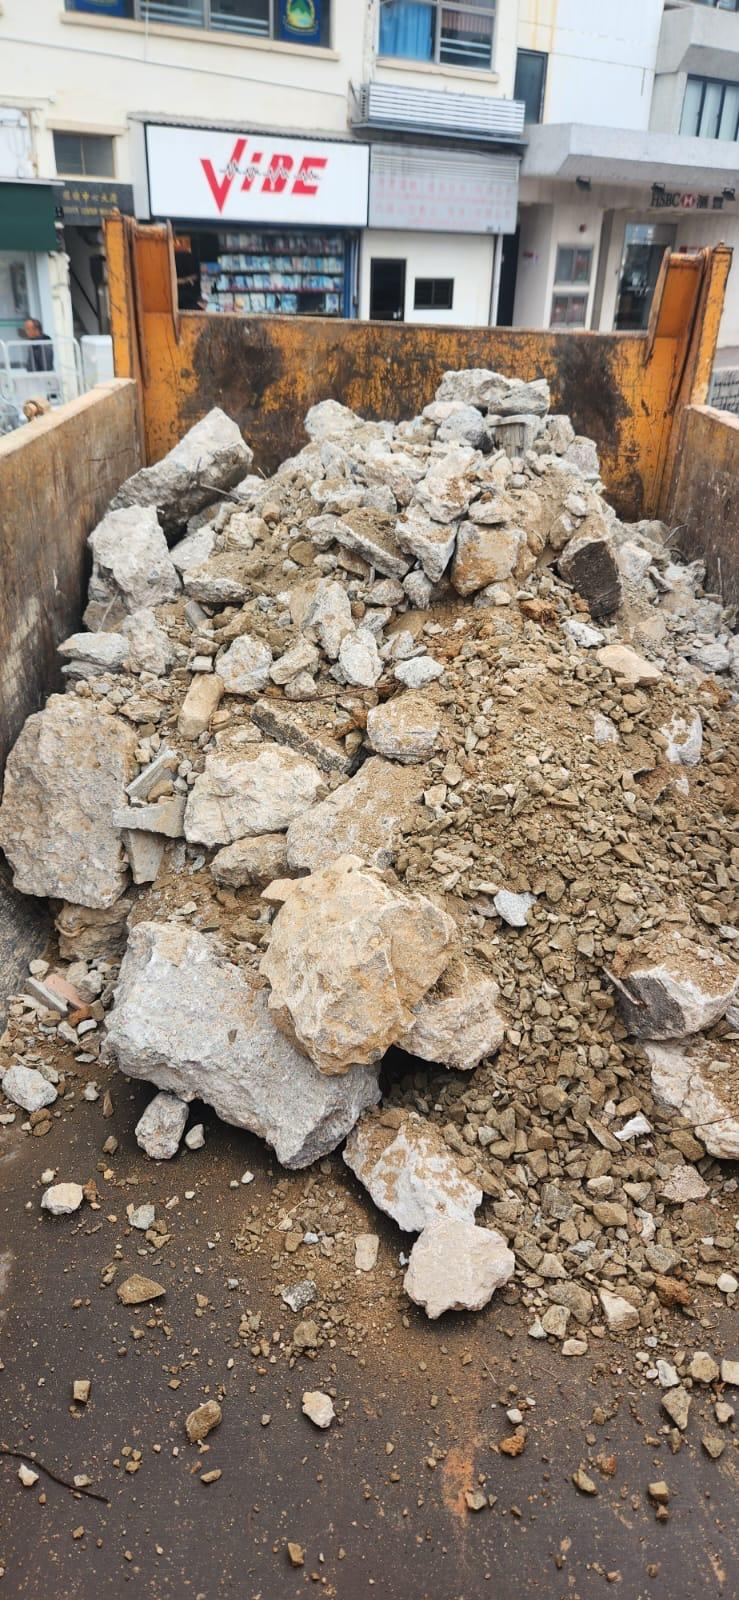dirt: (2, 369, 737, 1596)
stone: (100, 918, 382, 1171), (257, 852, 461, 1076), (0, 689, 140, 910), (341, 1103, 483, 1233), (601, 928, 738, 1041), (402, 1216, 515, 1320), (133, 1090, 189, 1160), (184, 1398, 221, 1442), (116, 1272, 165, 1304), (39, 1181, 83, 1215), (301, 1388, 335, 1428)
